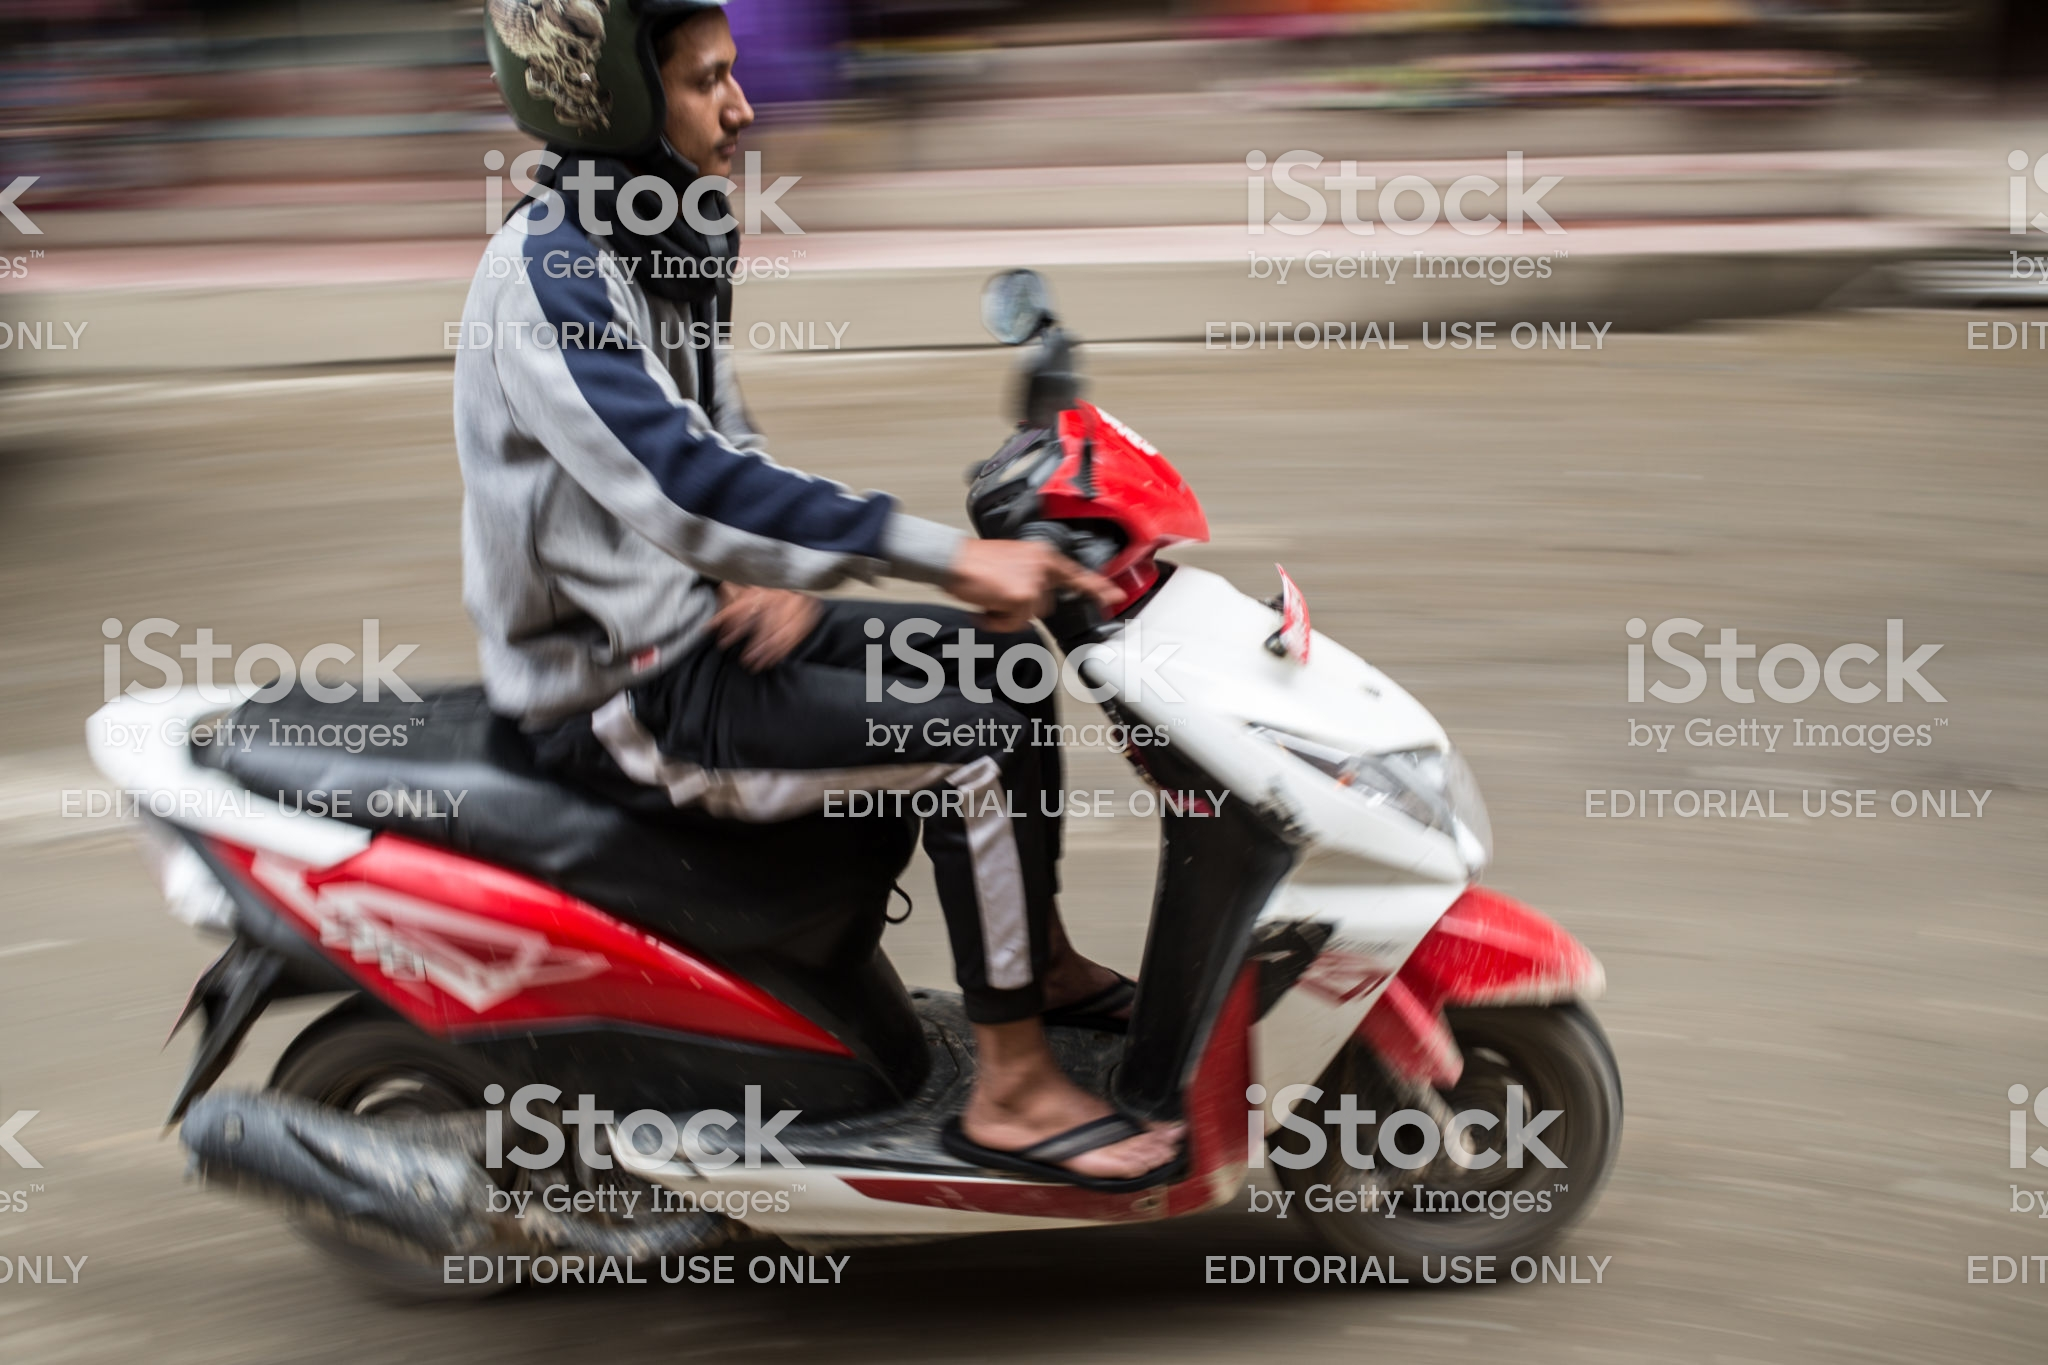helmet: (475, 14, 681, 178)
